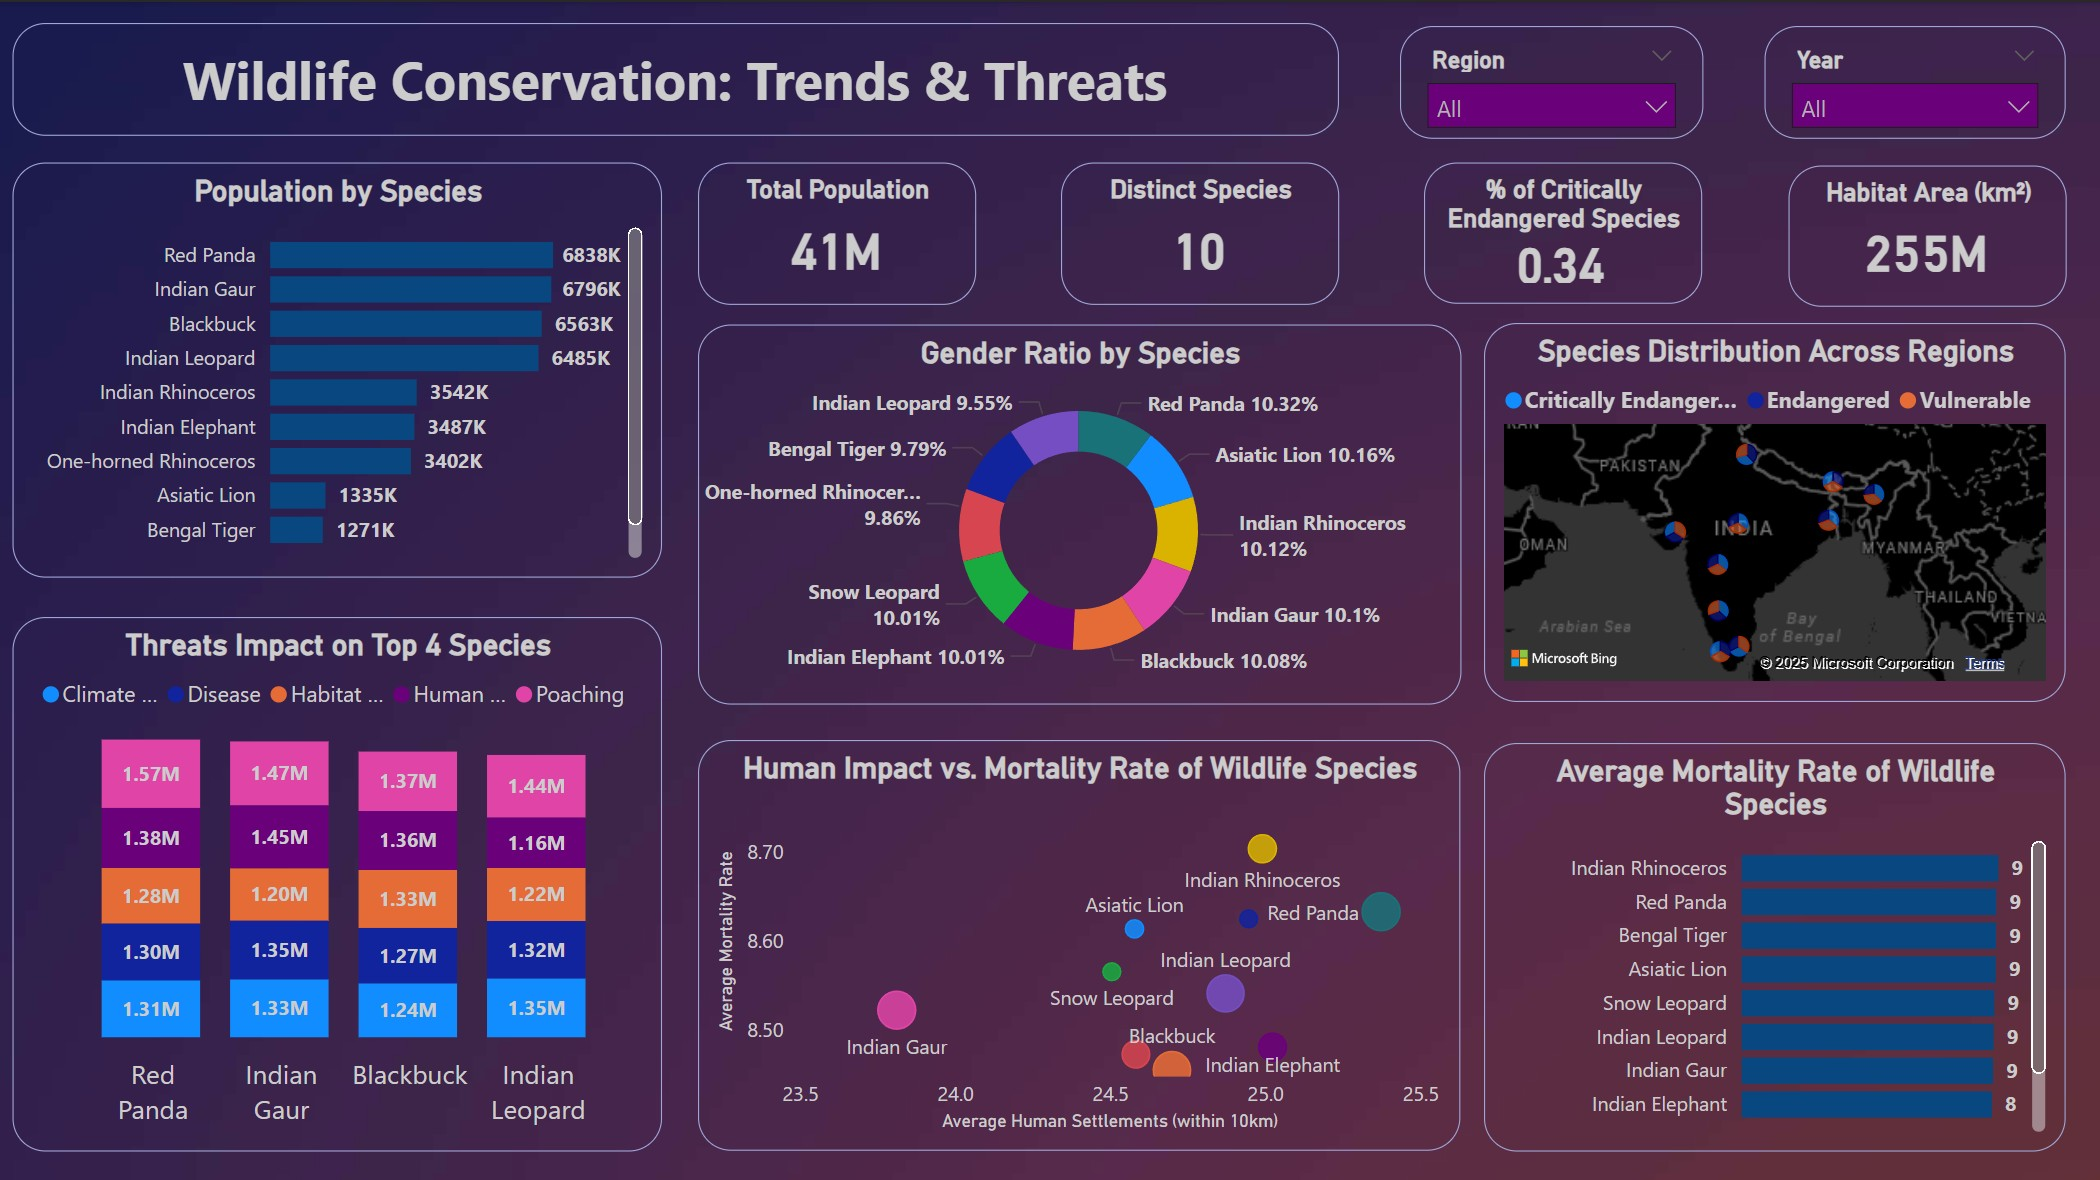

The dashboard page shown, as its layout file describes it:
{"tool":"powerbi","page":{"name":"Page 1","canvas":[1280,720],"ordinal":0},"visuals":[{"type":"card","title":"% of Critically Endangered Species","fields":{"Values":["wildlife_data.Critically Endangered %"]},"box":[867.6,97.9,169,85.8],"z":0},{"type":"card","title":"Distinct Species","fields":{"Values":["Count(wildlife_data.Species)"]},"box":[646.6,97.9,169,87],"z":1000},{"type":"card","title":"Total Population","fields":{"Values":["Sum(wildlife_data.Population)"]},"box":[425.3,97.9,169.2,87],"z":2000},{"type":"clusteredBarChart","title":"Population by Species","fields":{"Category":["wildlife_data.Species"],"Y":["Sum(wildlife_data.Population)"]},"box":[8.3,98.1,395.4,252.9],"z":3000},{"type":"map","title":"Species Distribution Across Regions","fields":{"Category":["wildlife_data.Region"],"Size":["Sum(wildlife_data.Population)"],"Series":["wildlife_data.Conservation Status"]},"box":[903.8,195.7,354,230.8],"z":4000},{"type":"columnChart","title":"Threats Impact on Top 4 Species","fields":{"Category":["wildlife_data.Species"],"Y":["Sum(wildlife_data.Population)"],"Series":["wildlife_data.Primary Threat"]},"box":[8.3,374.7,395.4,325.2],"z":5000},{"type":"donutChart","title":"Gender Ratio by Species","fields":{"Category":["wildlife_data.Species"],"Y":["CountNonNull(wildlife_data.Gender Ratio)"]},"box":[425.3,196.1,464.5,231.2],"z":6000},{"type":"slicer","fields":{"Values":["wildlife_data.Year"]},"box":[1074.2,14.5,183.7,68.9],"z":7000},{"type":"textbox","box":[8.6,12.9,807.1,68.9],"z":8000},{"type":"slicer","fields":{"Values":["wildlife_data.Region"]},"box":[852.5,14.5,184.9,68.9],"z":9000},{"type":"scatterChart","title":"Human Impact vs. Mortality Rate of Wildlife Species","fields":{"X":["Avg(wildlife_data.Human Settlements(count within 10km))"],"Y":["Avg(wildlife_data.Mortality Rate (%))"],"Size":["Sum(wildlife_data.Population)"],"Series":["wildlife_data.Species"]},"box":[425.3,449.5,464,250.1],"z":10000},{"type":"card","title":"Habitat Area (km²)","fields":{"Values":["Sum(wildlife_data.Habitat Area(km²))"]},"box":[1088.7,99.1,169.2,85.8],"z":11000},{"type":"clusteredBarChart","title":"Average Mortality Rate of Wildlife Species","fields":{"Category":["wildlife_data.Species"],"Y":["Avg(wildlife_data.Mortality Rate (%))"]},"box":[903.8,449.2,354.2,250.1],"z":12000}]}

Visuals, with their boxes in screenshot pixels (x1, y1, x2, y2), scaled from the page's 1280x720 canvas onto the 2100x1180 screenshot:
"% of Critically Endangered Species" card: (1423,160,1701,301)
"Distinct Species" card: (1061,160,1338,303)
"Total Population" card: (698,160,975,303)
"Population by Species" clusteredBarChart: (14,161,662,575)
"Species Distribution Across Regions" map: (1483,321,2064,699)
"Threats Impact on Top 4 Species" columnChart: (14,614,662,1147)
"Gender Ratio by Species" donutChart: (698,321,1460,700)
slicer - wildlife_data.Year: (1762,24,2064,137)
textbox: (14,21,1338,134)
slicer - wildlife_data.Region: (1399,24,1702,137)
"Human Impact vs. Mortality Rate of Wildlife Species" scatterChart: (698,737,1459,1147)
"Habitat Area (km²)" card: (1786,162,2064,303)
"Average Mortality Rate of Wildlife Species" clusteredBarChart: (1483,736,2064,1146)
